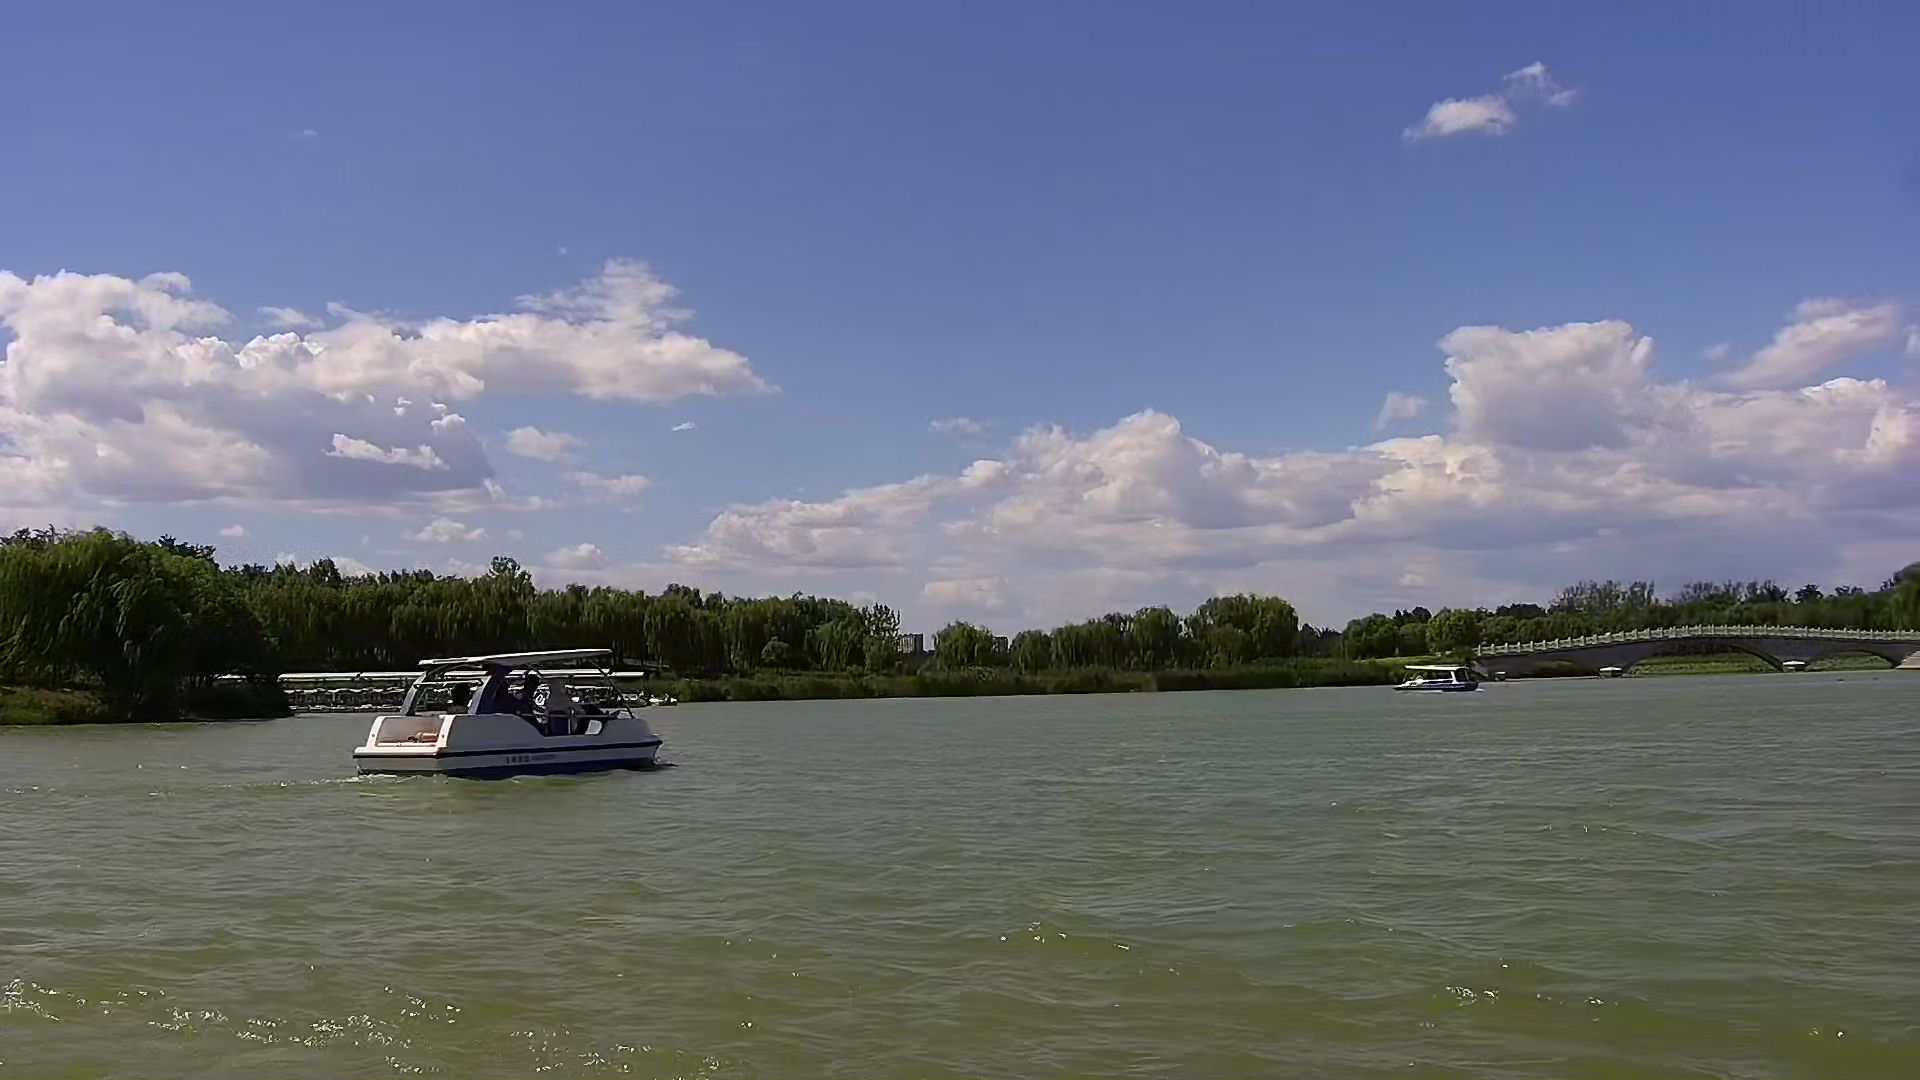boat: (347, 637, 667, 781), (1389, 651, 1482, 700)
bridge: (1524, 628, 1905, 691)
